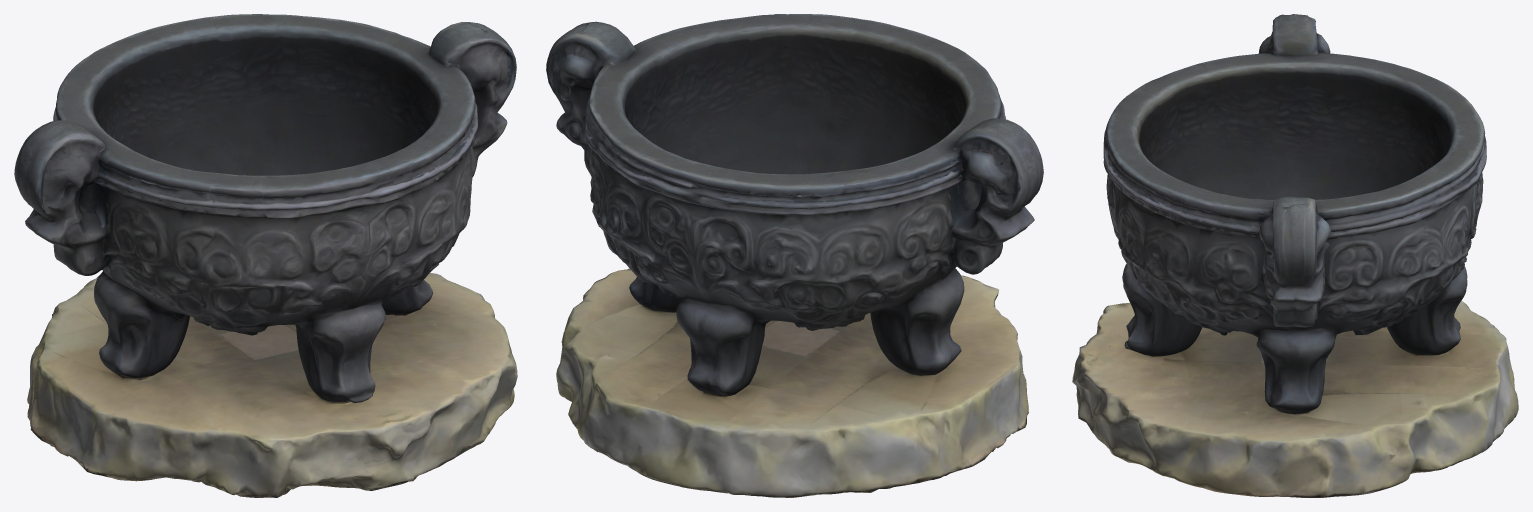
The model's file is SourceMesh.fbx.
3 views of the same model, side by side, from view 1: azimuth 30°, elevation 25°; view 2: azimuth 150°, elevation 25°; view 3: azimuth 270°, elevation 25° (orthographic). The views are drawn at different scales.
Visible parts, largest first — view 1: Mesh_0; view 2: Mesh_0; view 3: Mesh_0.
Part boxes in pixels (x1=…): Mesh_0: x1=14, y1=14, x2=517, y2=497; Mesh_0: x1=546, y1=14, x2=1043, y2=497; Mesh_0: x1=1072, y1=14, x2=1518, y2=497.
Size of the model in its own units: 200 by 130 by 175.
Materials: 1 (1 with a texture image).
